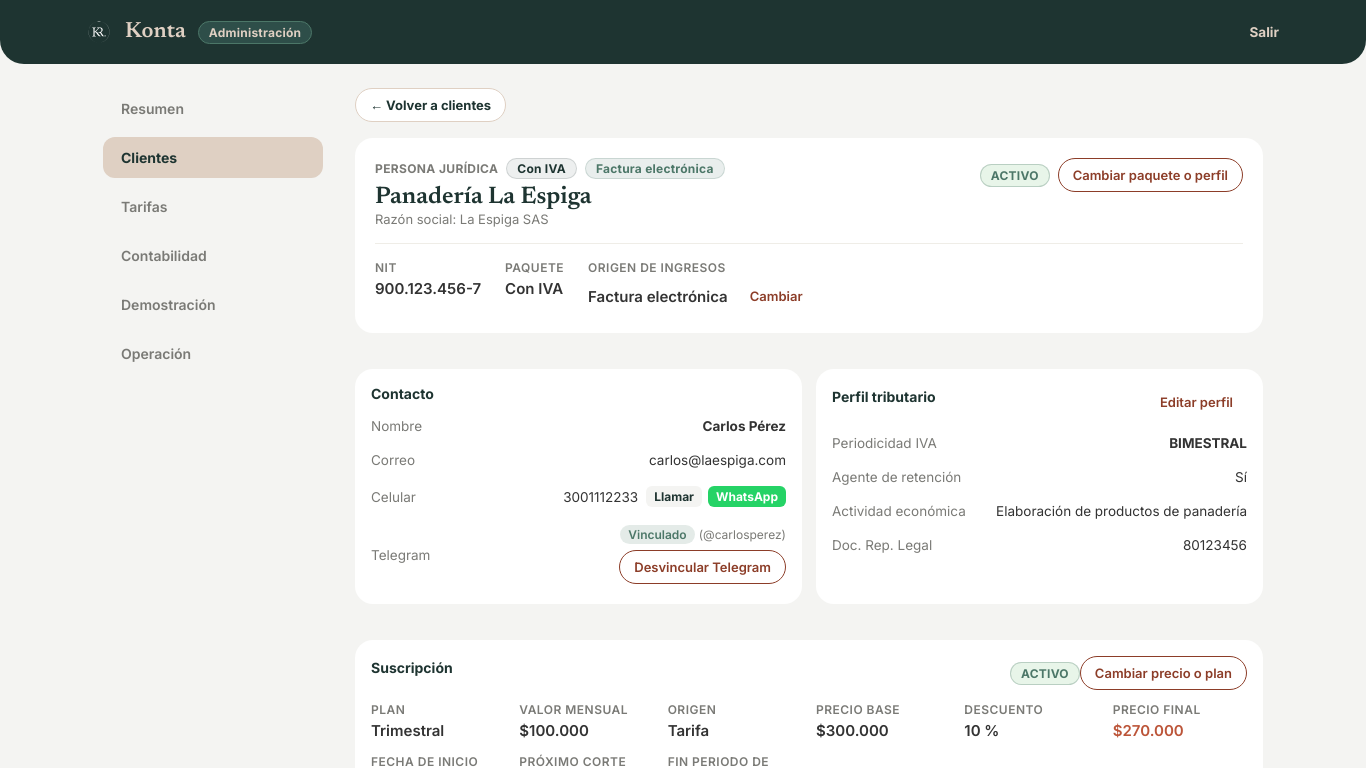
Test case: Story 8.6: Panel admin — crear cliente, pagos y configuración › Tipo de negocio y perfil tributario (AC #3) › cambiar tipo de negocio envía PATCH .../profile y recarga la ficha (Story 10.6)
Expected: the heading "Panadería La Espiga" is shown, [375,185,592,209]
Botón "Cambiar" junto a Origen de ingresos: abre el formulario de paquete y perfil
Click the button "Cambiar": point(776, 296) [736,279,817,313]
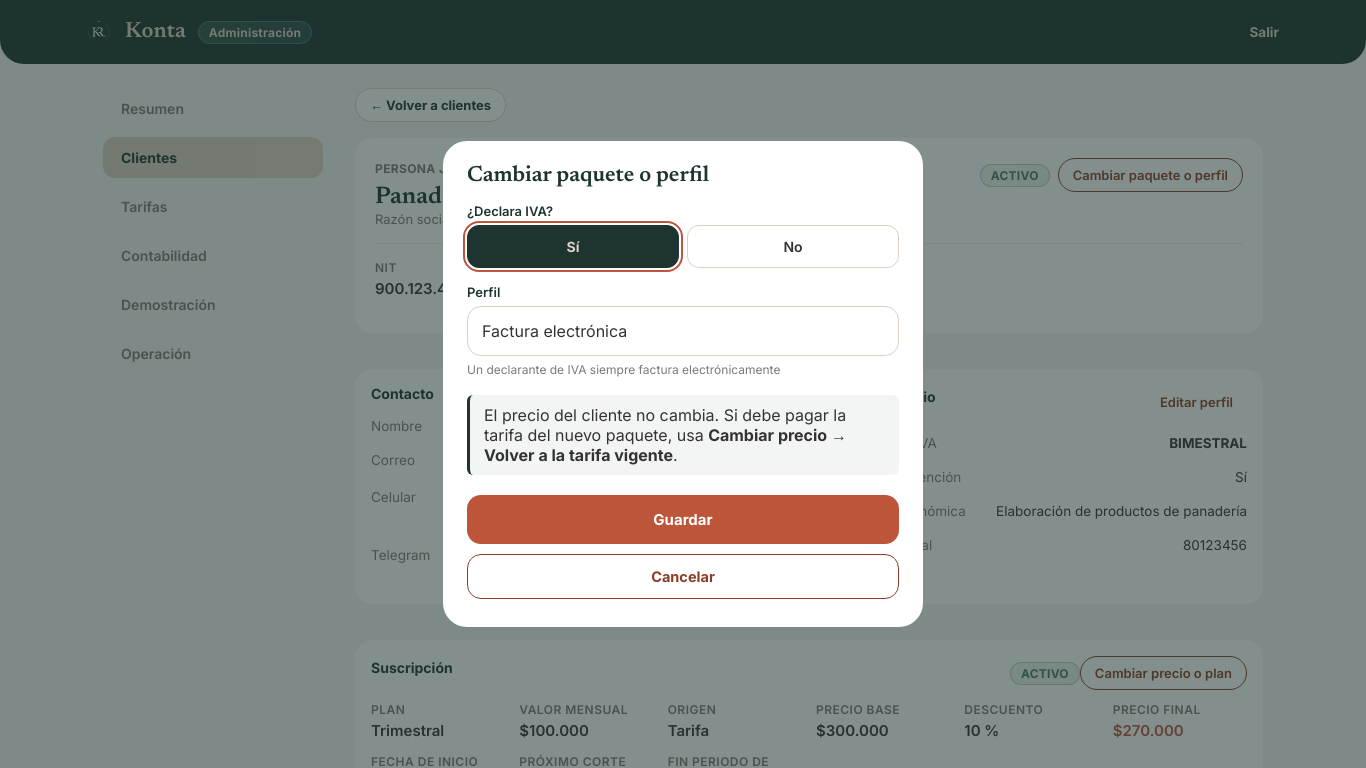
Expected: the dialog "Cambiar paquete o perfil" is shown, [443,141,923,627]
Ventas exige no declarar IVA
Click the radio button labelled "No": point(793, 247) [687,225,899,268]
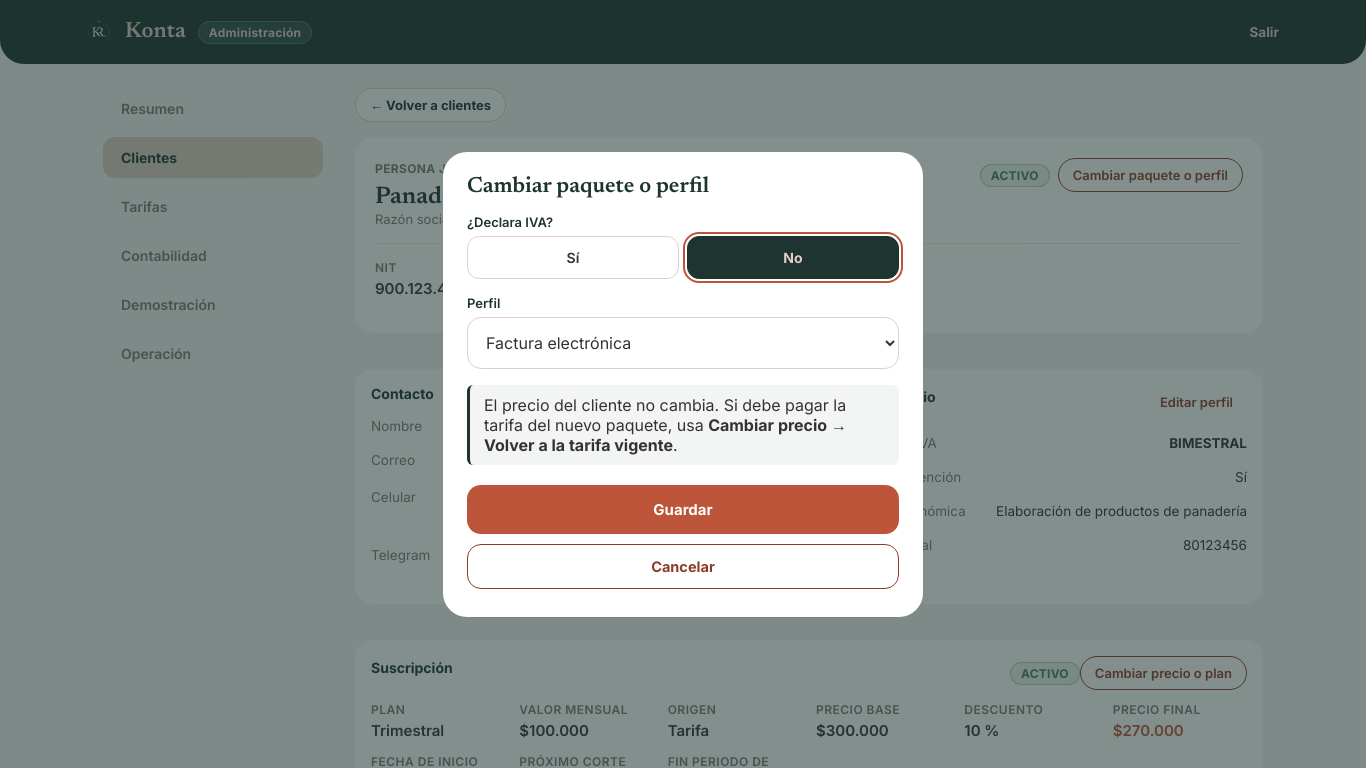
Select "Ventas" in the dropdown labelled "Perfil": point(683, 342) [467,316,899,368]
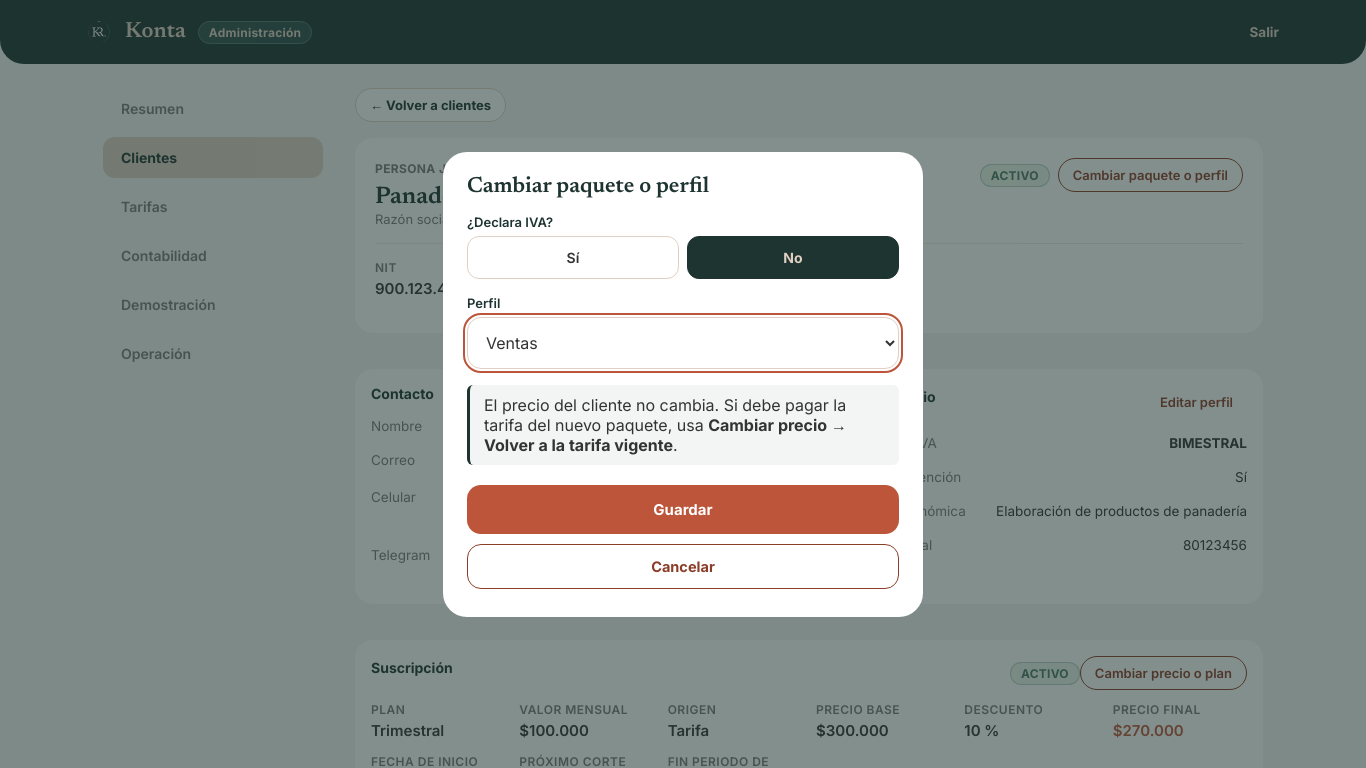
Click the button "Guardar": point(683, 509) [467,484,899,534]
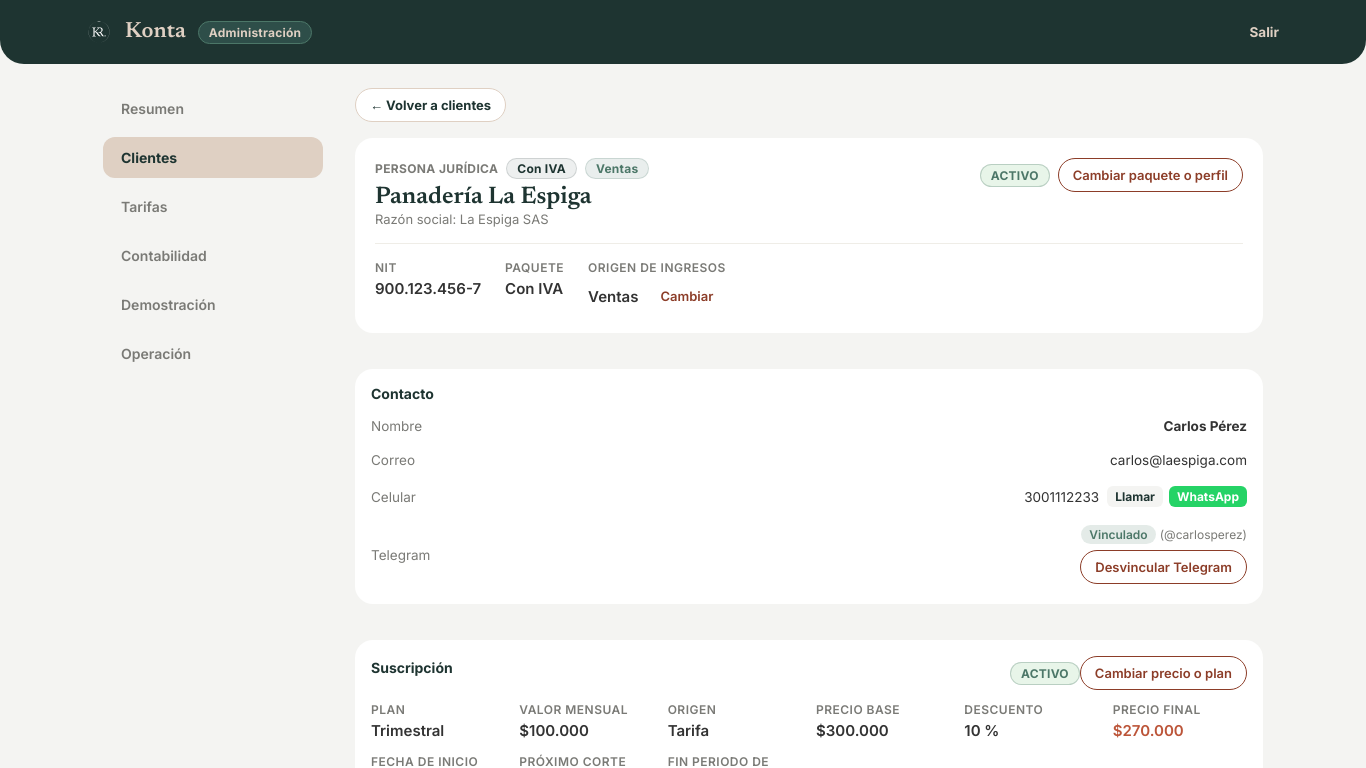
Expected: the dialog is gone
Expected: the text "Ventas" in the row of "Persona Jurídica" is shown, [596,161,638,176]
